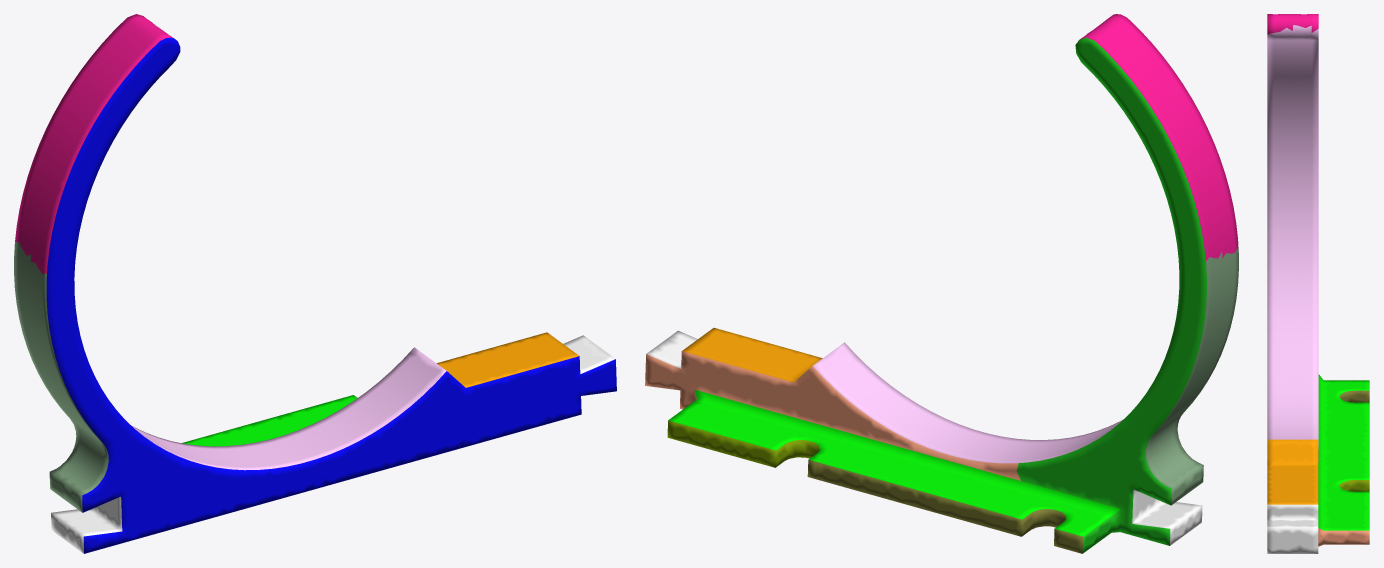
Rendered from model_20_segmented_new.obj.
3 renders of one model, left to right at view 1: azimuth 30°, elevation 25°; view 2: azimuth 150°, elevation 25°; view 3: azimuth 270°, elevation 25°, orthographic. The views are drawn at different scales.
Size of the model in its own units: 101 by 84.1 by 20.
